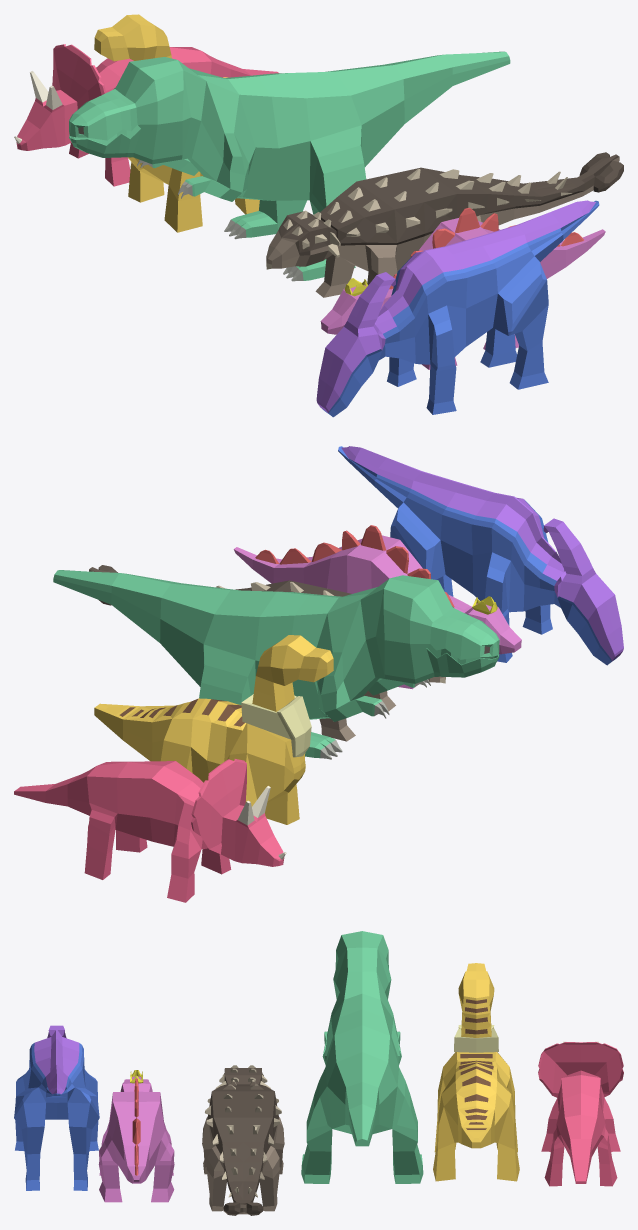
File: dinosaurs.glb
3 views of the same model, one above another, from view 1: azimuth 30°, elevation 25°; view 2: azimuth 150°, elevation 25°; view 3: azimuth 270°, elevation 25° (orthographic). The views are drawn at different scales.
Parts seen in each view (by area): view 1: trex, Cube.011, ankylo, Trike.002, stanley.001, estego; view 2: trex, Cube.011, Trike.002, stanley.001, estego, ankylo; view 3: trex, stanley.001, ankylo, Trike.002, Cube.011, estego.
Part boxes in pixels (box(x1,y1,x2,y2)): trex: box(69, 51, 510, 281); Cube.011: box(316, 200, 599, 417); ankylo: box(266, 152, 623, 297); Trike.002: box(14, 44, 278, 186); stanley.001: box(94, 14, 259, 232); estego: box(320, 207, 605, 369); trex: box(53, 570, 499, 759); Cube.011: box(338, 446, 623, 665); Trike.002: box(14, 759, 286, 902); stanley.001: box(94, 635, 333, 824); estego: box(233, 525, 521, 689); ankylo: box(89, 565, 445, 741); trex: box(301, 931, 423, 1183); stanley.001: box(433, 963, 519, 1181); ankylo: box(202, 1065, 284, 1215); Trike.002: box(538, 1041, 623, 1186); Cube.011: box(14, 1025, 99, 1190); estego: box(98, 1070, 174, 1202).
Bounding box in the file's own units: 39.25 × 17.37 × 52.87.
